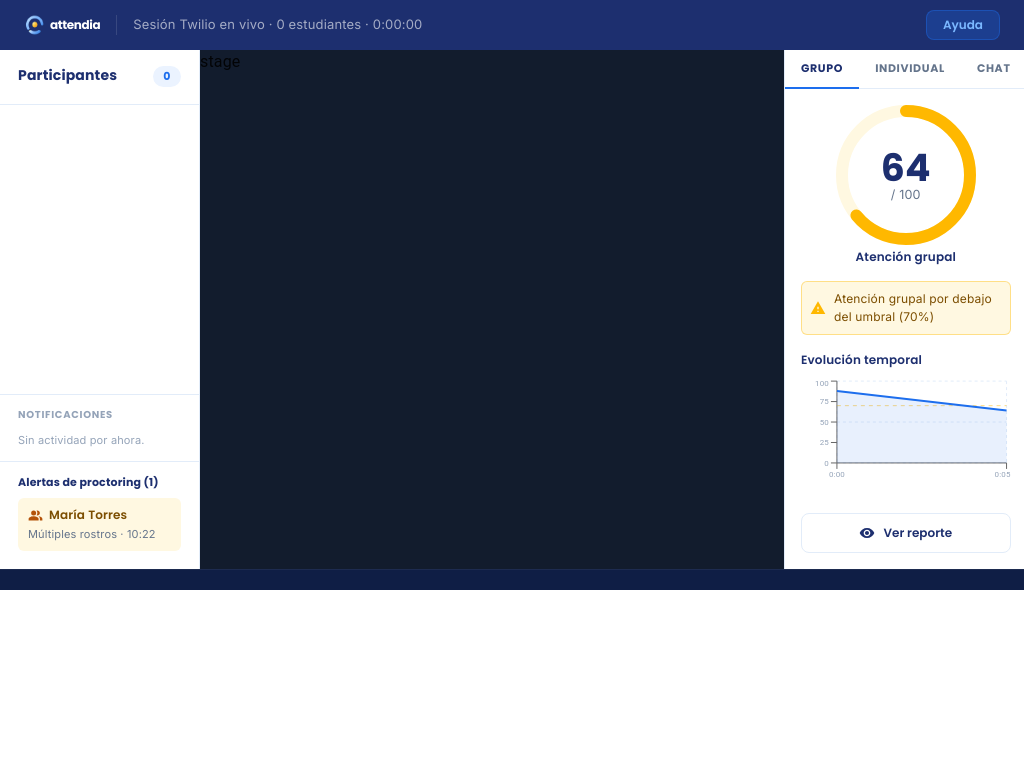
Test case: ProfessorRoomShell › sends a warning targeted at the student identity and kind, then dismisses the alert
Click the button "María Torres Múltiples rostros · 10:22".
click(100, 524)  # box [18,498,181,551]
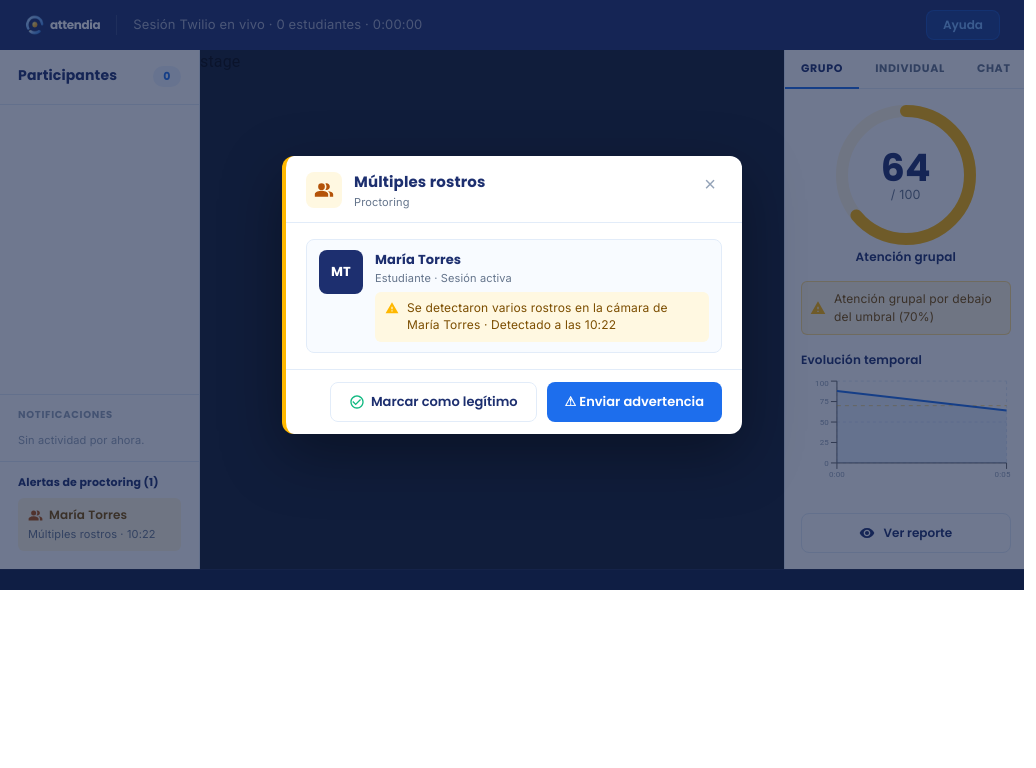
Click the button with test id "professor-proctoring-modal-warning".
click(634, 402)  # box [547,382,722,422]
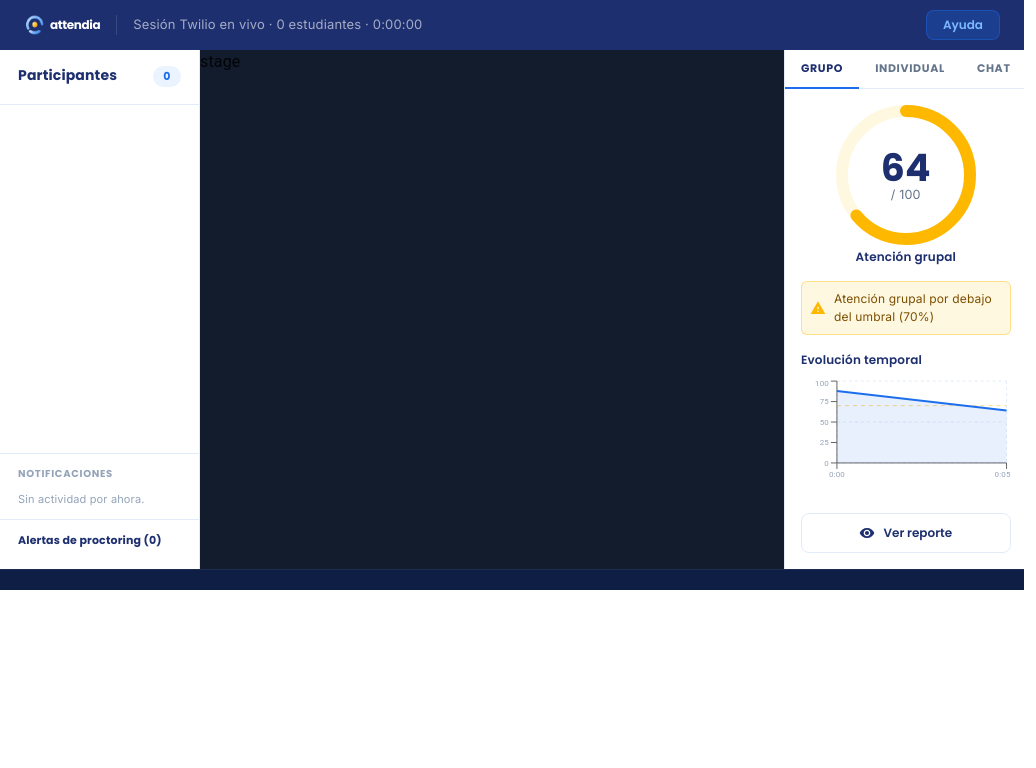
Expected: the element with test id "professor-proctoring-modal" is gone
Expected: the element with test id "professor-room-shell-proctoring-feed" reads "Alertas de proctoring (0)", [18,532,162,548]
